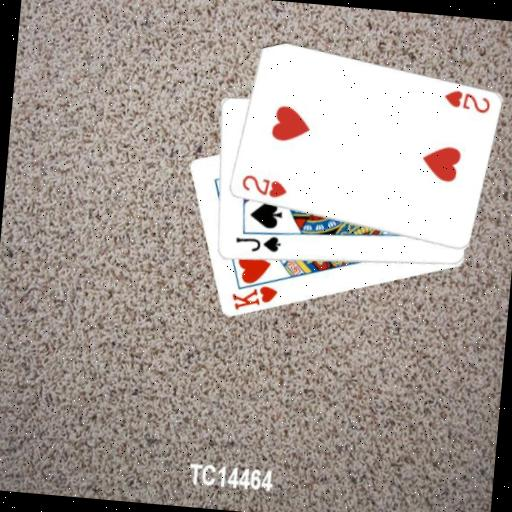2H: (237, 171, 290, 201), (440, 86, 493, 116)
JS: (231, 230, 283, 256)
KH: (228, 280, 281, 316)
